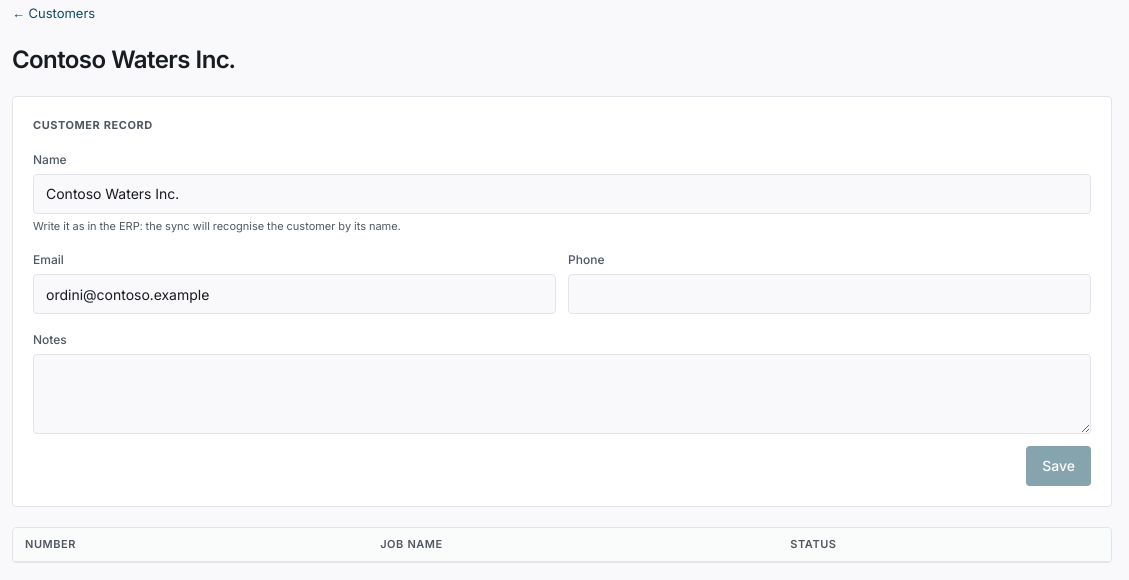
ClienteDetail — name › a manager fixes the name and the title updates
Replace the text in the field labelled "Name" with "Contoso Waters Ltd" at (562, 194), box [33,174,1091,214]
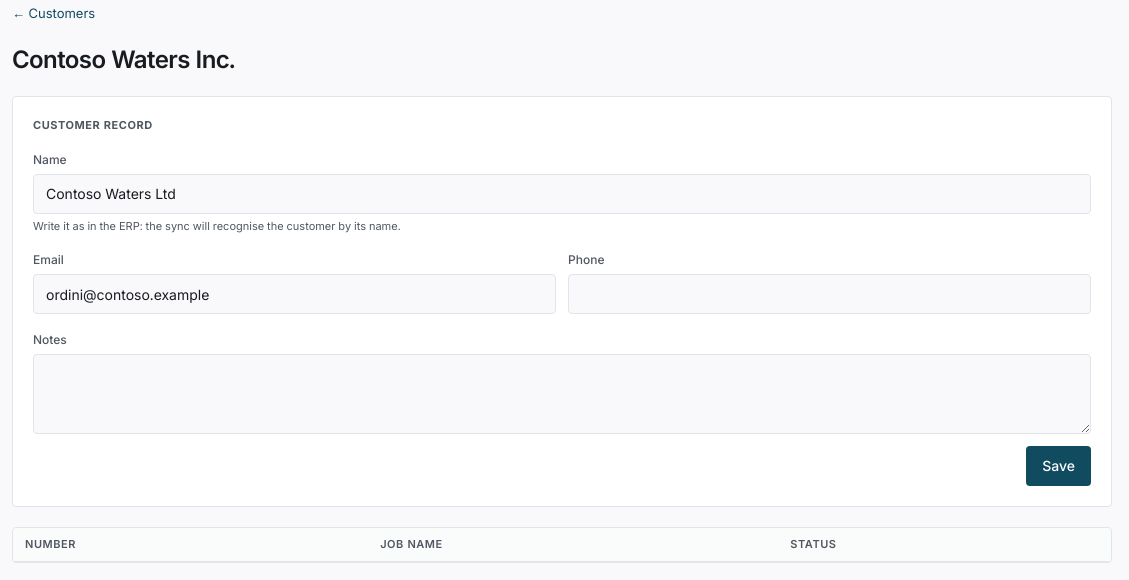
Click the button "Save".
click(1059, 466)  # box [1026,446,1091,486]
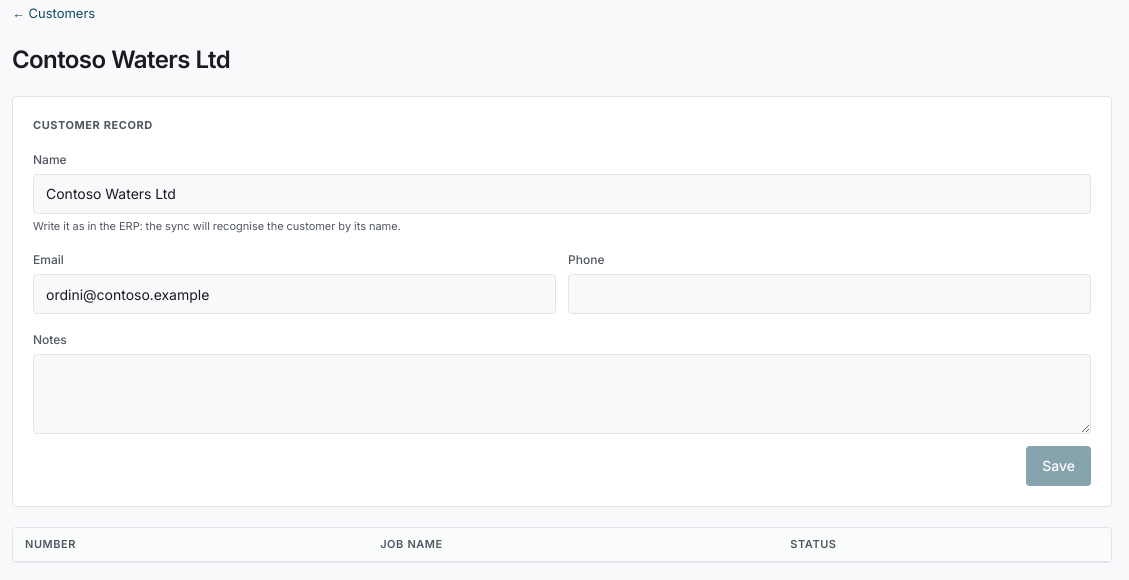
Now the heading "Contoso Waters Ltd" is shown, box [12,45,230,74]
